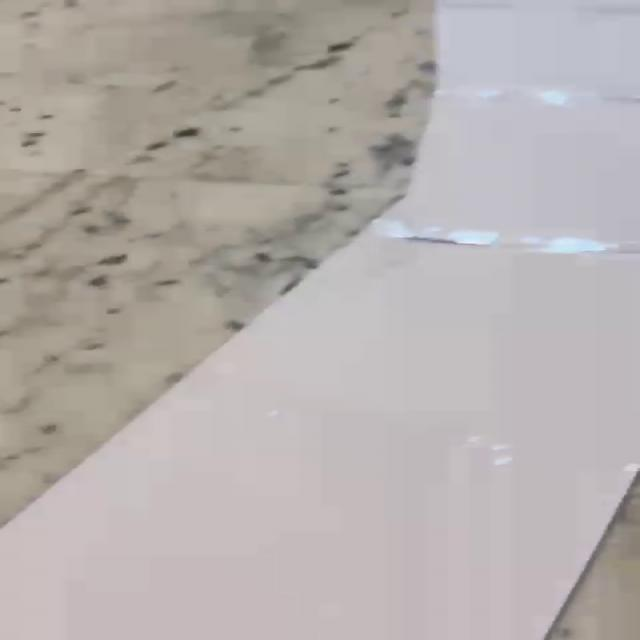road: (0, 0, 640, 640)
